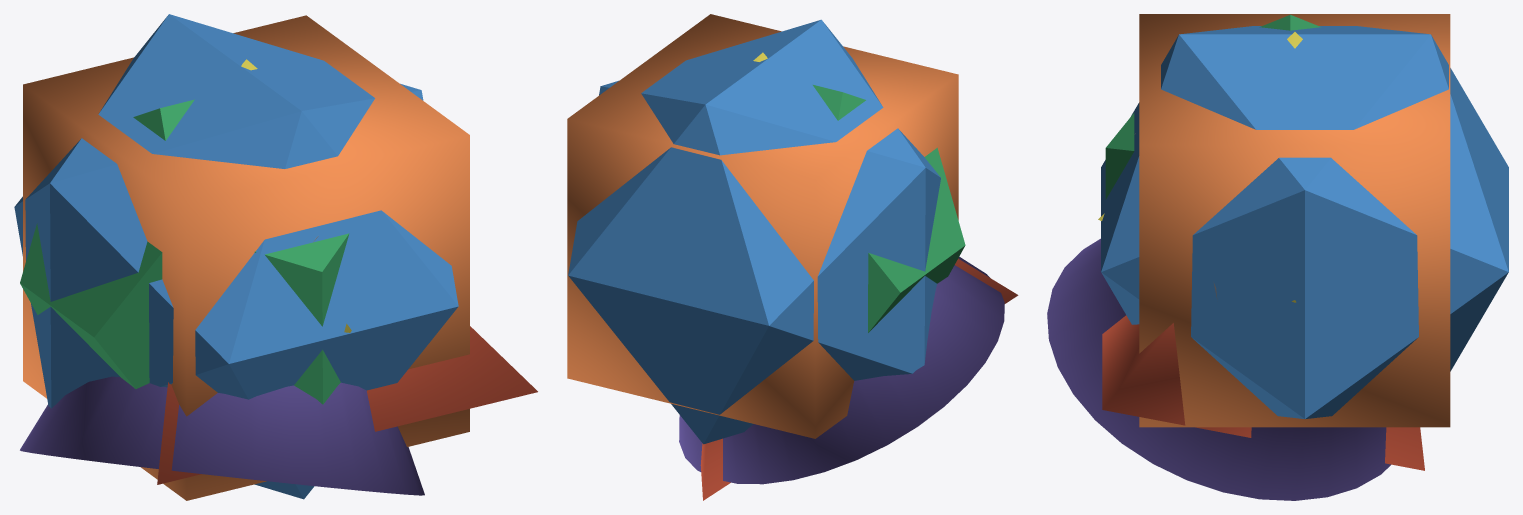
File: uuss.glb
The picture shows the model from 3 angles, left to right: view 1: azimuth 30°, elevation 25°; view 2: azimuth 150°, elevation 25°; view 3: azimuth 270°, elevation 25°; orthographic projection. The views are drawn at different scales.
Visible parts, largest first — view 1: instance_3.001, Cube, Cone, instance_4.001, Cone.001; view 2: instance_3.001, Cube, Cone, instance_4.001, Cone.001; view 3: instance_3.001, Cube, Cone, Cone.001, instance_4.001.
Boxes of the visible parts, left/top/right/bottom form: instance_3.001: left=14, top=14, right=458, bottom=499; Cube: left=23, top=15, right=469, bottom=500; Cone: left=20, top=376, right=424, bottom=495; instance_4.001: left=20, top=99, right=349, bottom=404; Cone.001: left=157, top=326, right=537, bottom=484; instance_3.001: left=568, top=19, right=940, bottom=444; Cube: left=567, top=14, right=958, bottom=438; Cone: left=679, top=257, right=1004, bottom=484; instance_4.001: left=813, top=85, right=965, bottom=332; Cone.001: left=700, top=258, right=1018, bottom=500; instance_3.001: left=1101, top=26, right=1508, bottom=418; Cube: left=1139, top=14, right=1450, bottom=427; Cone: left=1047, top=238, right=1390, bottom=500; Cone.001: left=1102, top=315, right=1424, bottom=470; instance_4.001: left=1105, top=14, right=1320, bottom=199.
Bounding box in the file's own units: 1.89 × 2.01 × 1.91.
